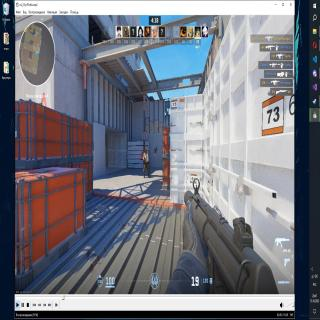T-Body: (142, 149, 150, 177)
T-Head: (144, 149, 148, 156)
